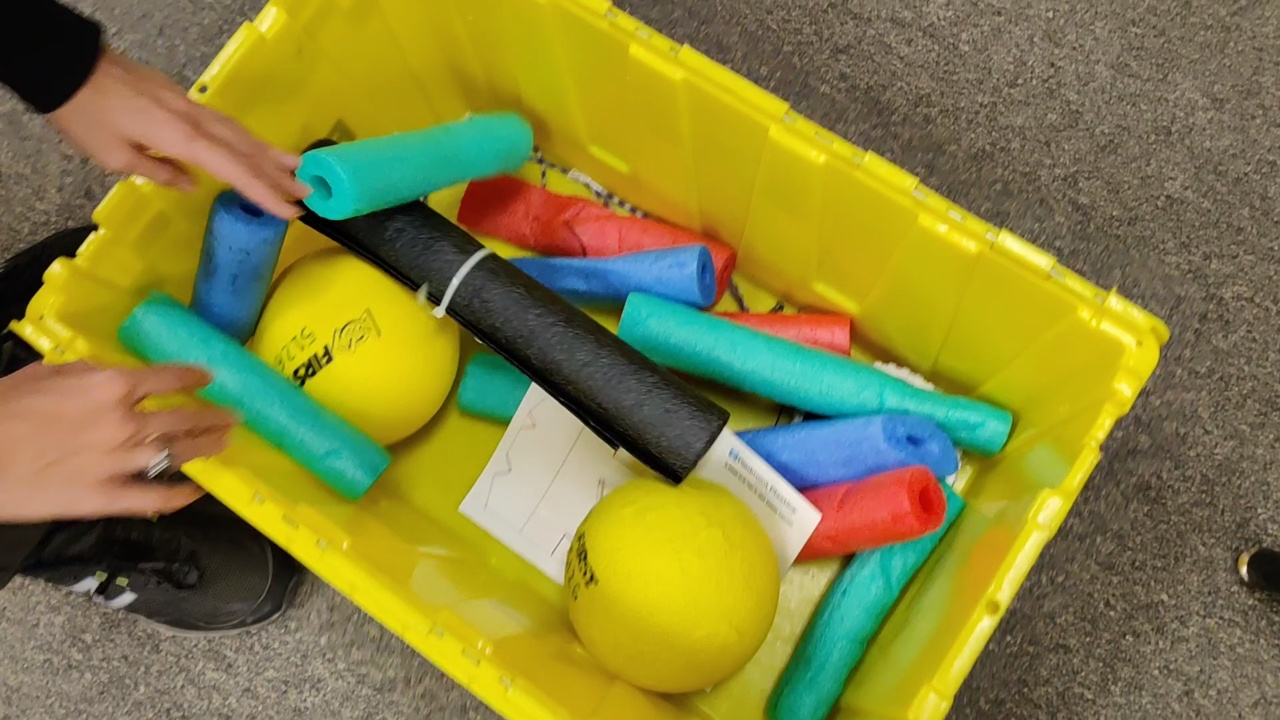Ball: (563, 478, 781, 698), (248, 247, 463, 446)
